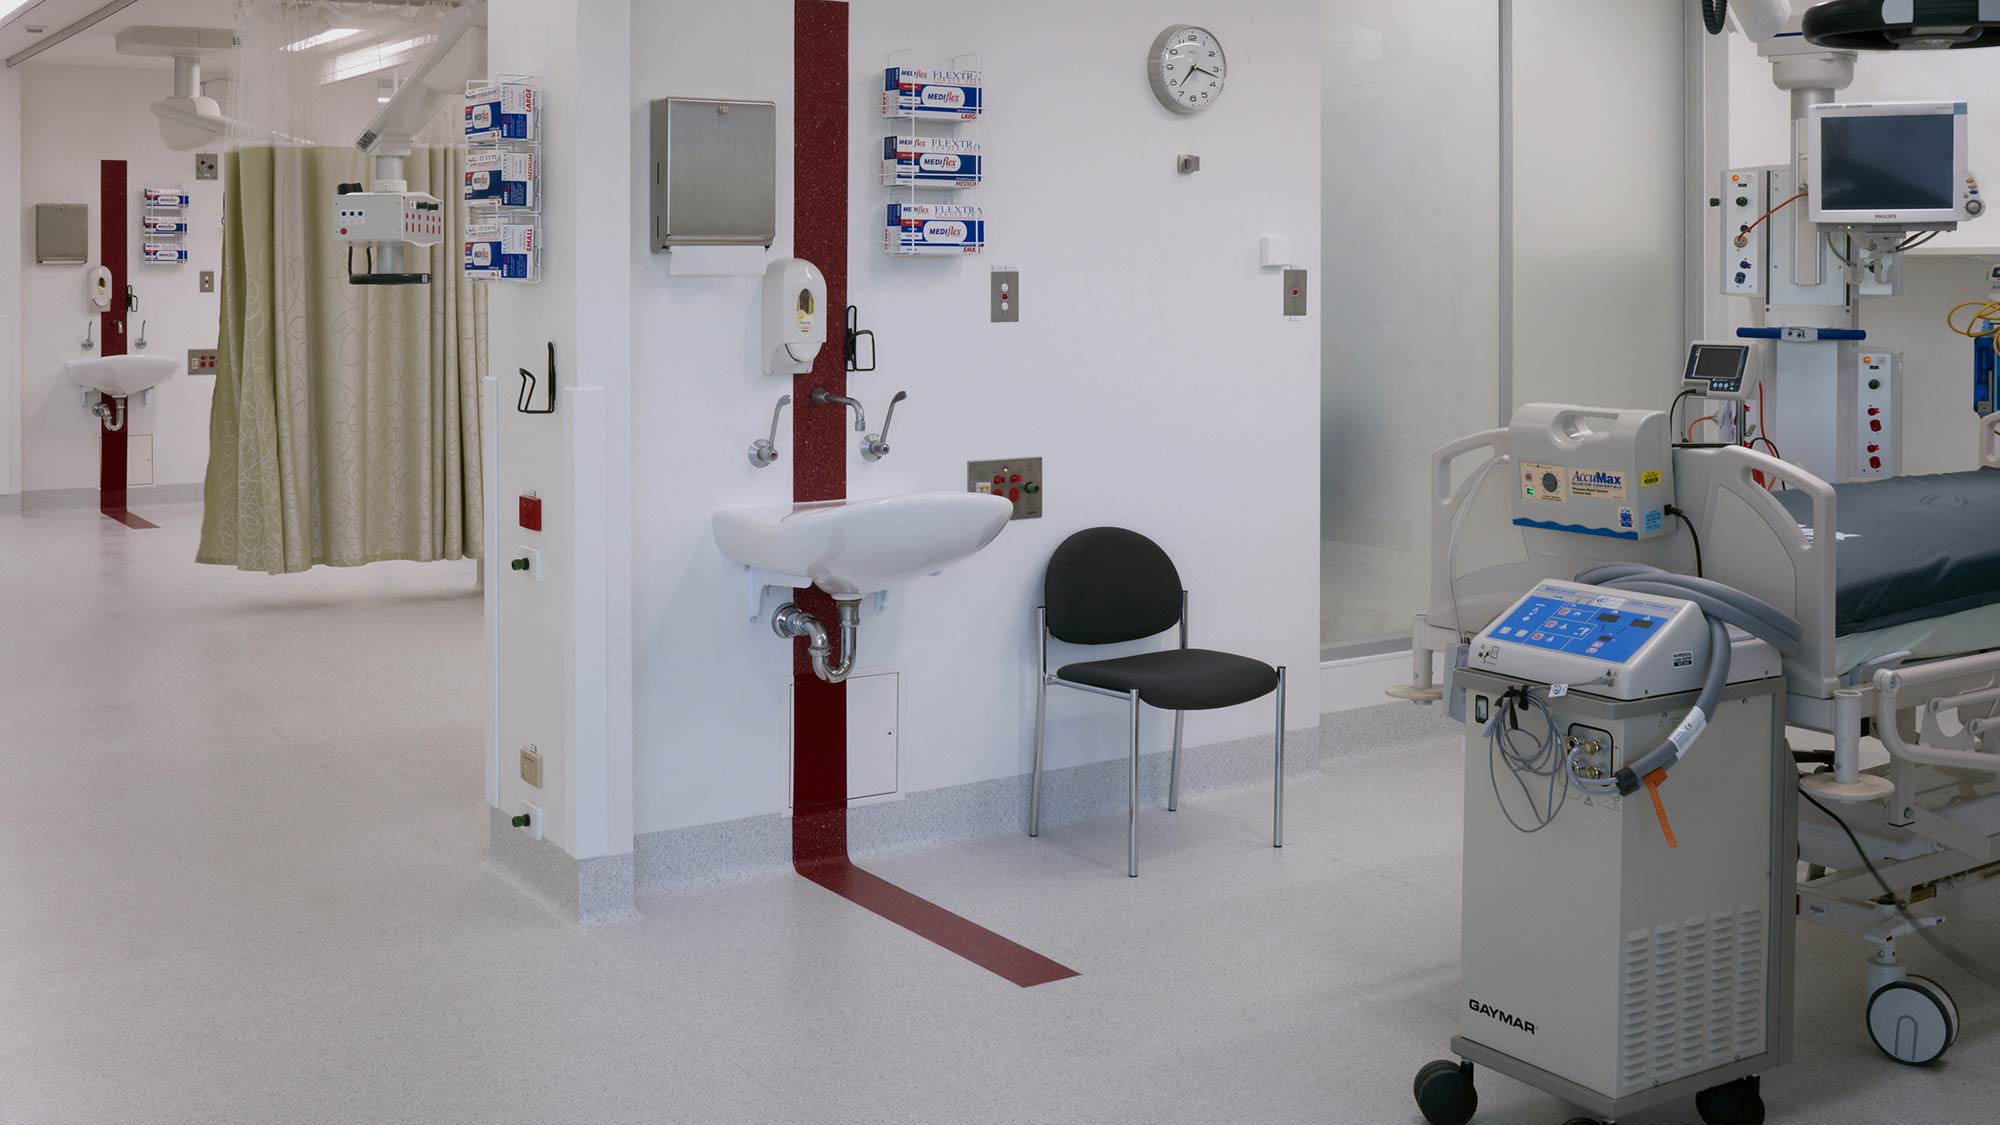bedside_monitor: (1806, 103, 1985, 236), (1679, 339, 1762, 401)
chair: (1027, 526, 1287, 878)
curtain: (196, 1, 488, 576)
dispenser: (646, 93, 776, 280), (887, 71, 988, 268), (463, 87, 552, 286), (758, 257, 827, 376), (87, 266, 113, 316)
faucet: (746, 385, 908, 468), (80, 316, 150, 352)
foot_board: (1978, 409, 2000, 470)
hospital_bed: (1385, 409, 2000, 1066)
sink: (713, 490, 1015, 600), (62, 354, 180, 398)
